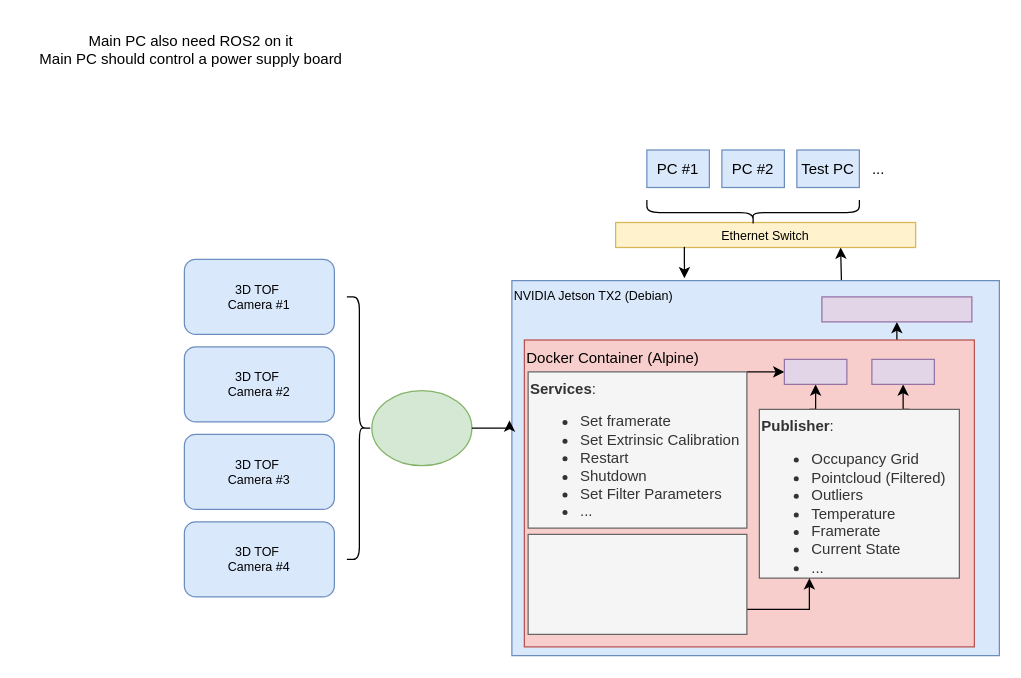
This 1021x678 diagram has some shape labels left out. The shapes that lost their labels are listed below. From the top down, each one's centre as x and y in pixels, then its label:
At (x=896, y=309): "JournalCtl Logs".
At (x=815, y=371): "ROS2".
At (x=902, y=371): "MQTT".
At (x=421, y=427): "Proprietary 2D/3D camera ports".
At (x=637, y=583): "Protective Measures : Over-temperature Protection Initial Self-Test".
